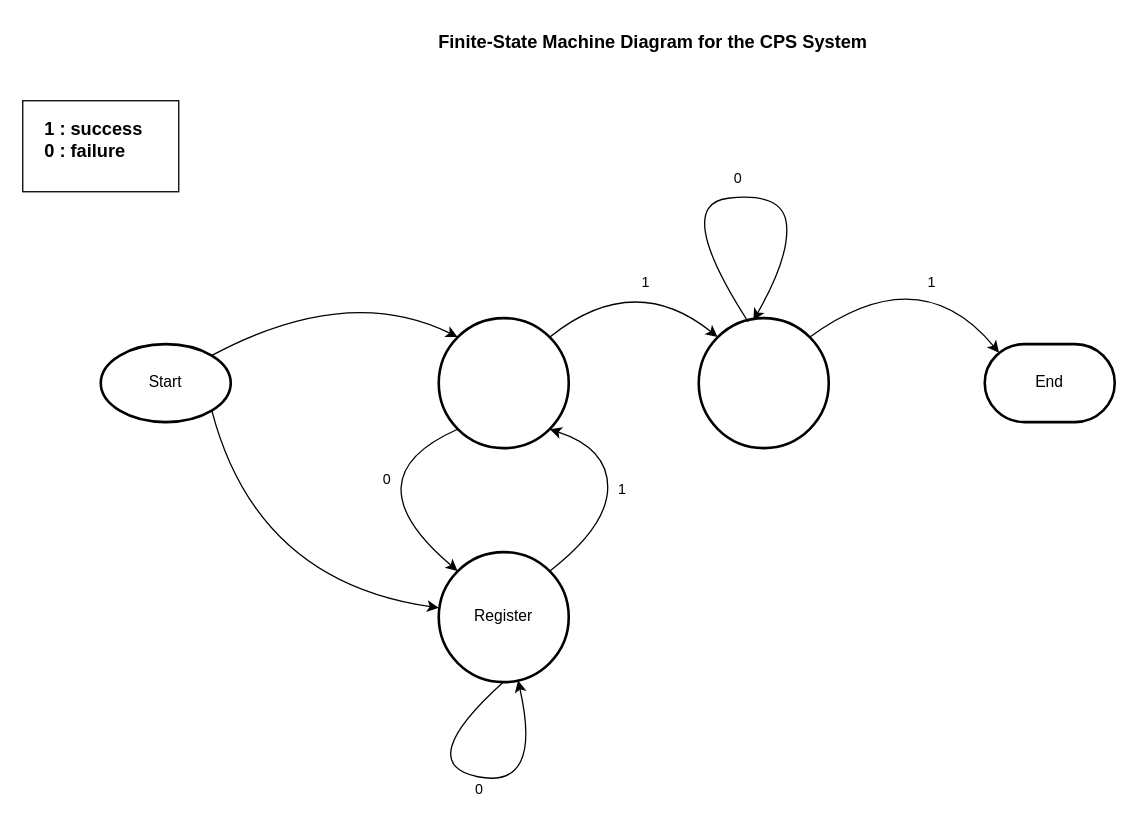
Some shapes in this 1139 by 820 pixel diagram are drawn without their labels. Each missing label, with the box of its shape:
Login: (437, 316, 569, 449)
Report Crime: (697, 316, 829, 449)
